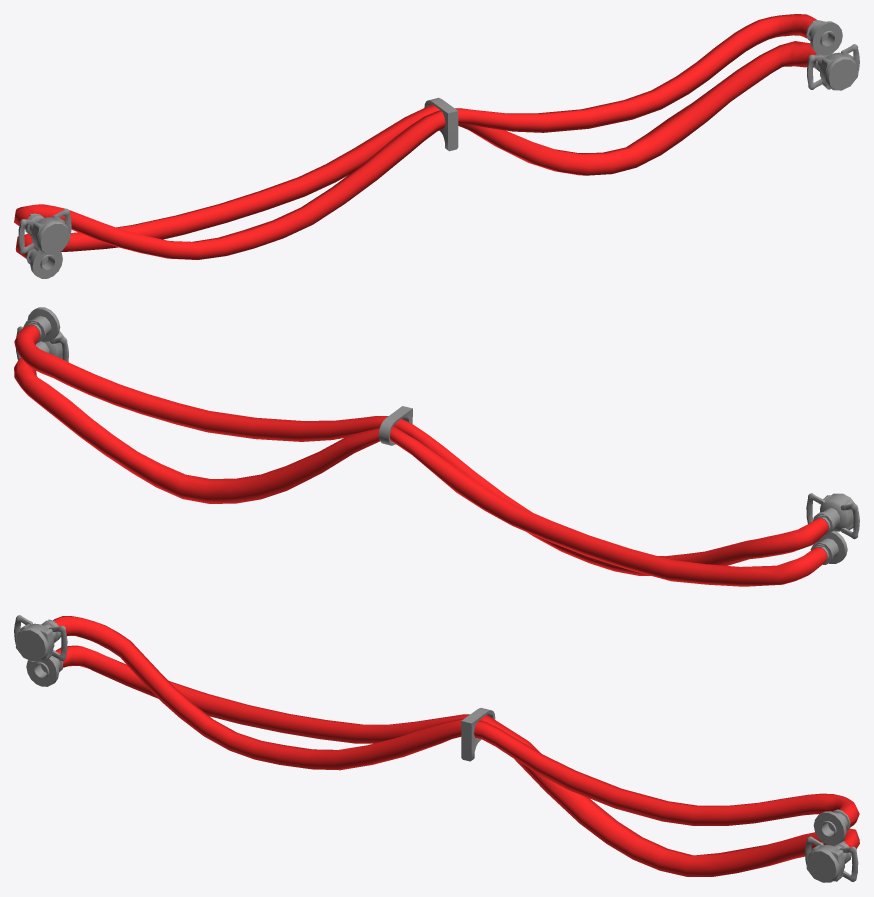
Rendered from Tube_Industrial_Scifi_Wall_800_A.fbx.
3 views of the same model, one above another, from view 1: azimuth 30°, elevation 25°; view 2: azimuth 150°, elevation 25°; view 3: azimuth 330°, elevation 25° (orthographic).
Parts seen in each view (by area): view 1: Geom_Tube_Industrial_Scifi_Wall_800_A_LOD00; view 2: Geom_Tube_Industrial_Scifi_Wall_800_A_LOD00; view 3: Geom_Tube_Industrial_Scifi_Wall_800_A_LOD00.
Boxes of the visible parts, bbox=[...] form: Geom_Tube_Industrial_Scifi_Wall_800_A_LOD00: bbox=[14, 14, 859, 278]; Geom_Tube_Industrial_Scifi_Wall_800_A_LOD00: bbox=[14, 307, 859, 586]; Geom_Tube_Industrial_Scifi_Wall_800_A_LOD00: bbox=[14, 615, 859, 882].
Size of what is drawn, in the model's own units: 826 by 86.27 by 120.
